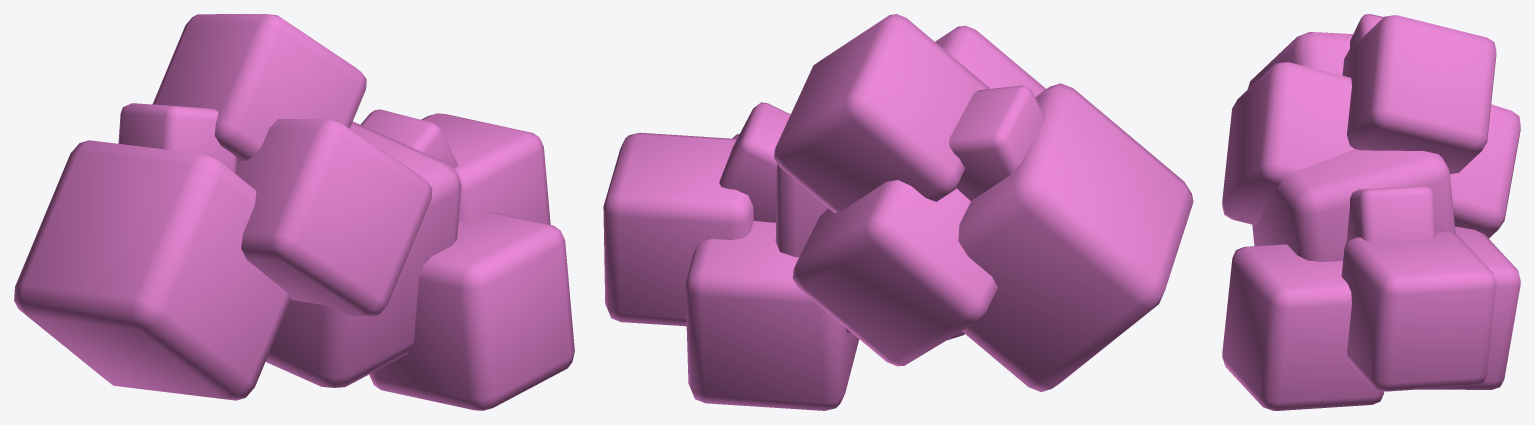
File: 杂石堆砌.fbx
The picture shows the model from 3 angles, left to right: view 1: azimuth 30°, elevation 25°; view 2: azimuth 150°, elevation 25°; view 3: azimuth 270°, elevation 25°; orthographic projection. The views are drawn at different scales.
Parts seen in each view (by area): view 1: Leaf.003, Leaf.002; view 2: Leaf.003, Leaf.002; view 3: Leaf.002, Leaf.003.
Boxes of the visible parts, bbox=[...] form: Leaf.003: bbox=[14, 14, 432, 400]; Leaf.002: bbox=[265, 109, 574, 410]; Leaf.003: bbox=[774, 14, 1193, 392]; Leaf.002: bbox=[603, 102, 964, 410]; Leaf.002: bbox=[1222, 149, 1520, 410]; Leaf.003: bbox=[1222, 14, 1520, 238].
Bounding box in the file's own units: 1558 × 1046 × 886.
